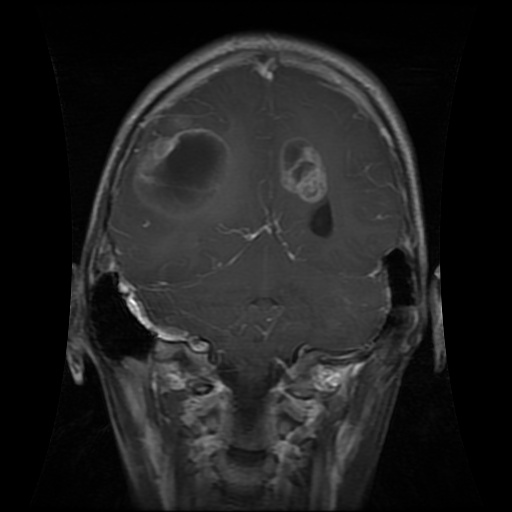glioma: (132, 111, 237, 222)
